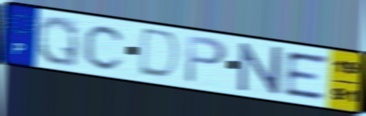C: (81, 23, 128, 72)
D: (135, 26, 183, 82)
E: (284, 50, 330, 102)
N: (237, 41, 283, 97)
P: (183, 34, 230, 86)
Q: (36, 14, 80, 69)
